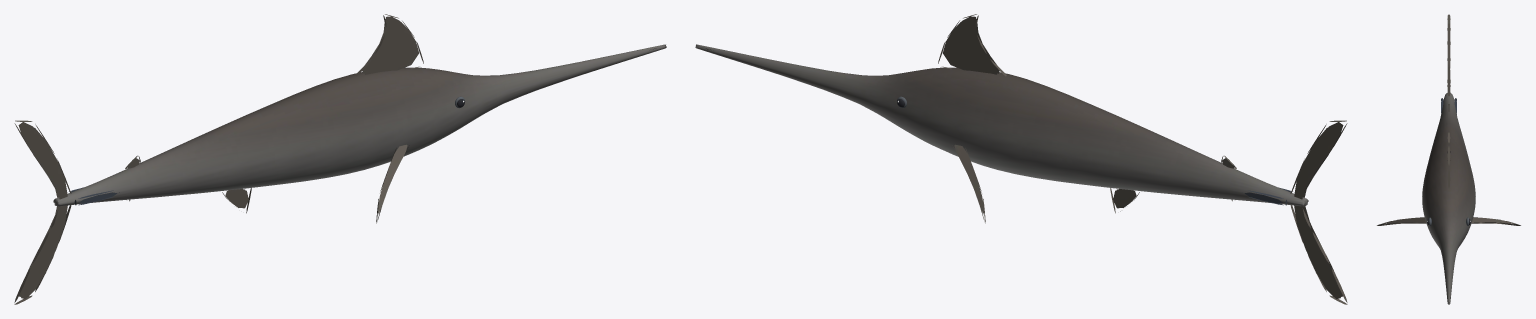
File: swordfish.glb
3 renders of one model, left to right at view 1: azimuth 30°, elevation 25°; view 2: azimuth 150°, elevation 25°; view 3: azimuth 270°, elevation 25°, orthographic. The views are drawn at different scales.
Visible parts, largest first — view 1: swordfish; view 2: swordfish; view 3: swordfish.
Boxes of the visible parts, x1=… form: swordfish: x1=14, y1=14, x2=666, y2=304; swordfish: x1=695, y1=14, x2=1347, y2=304; swordfish: x1=1377, y1=14, x2=1520, y2=304.
Bounding box in the file's own units: 3.18 × 0.9362 × 0.8539.
1 material, 1 textured.
